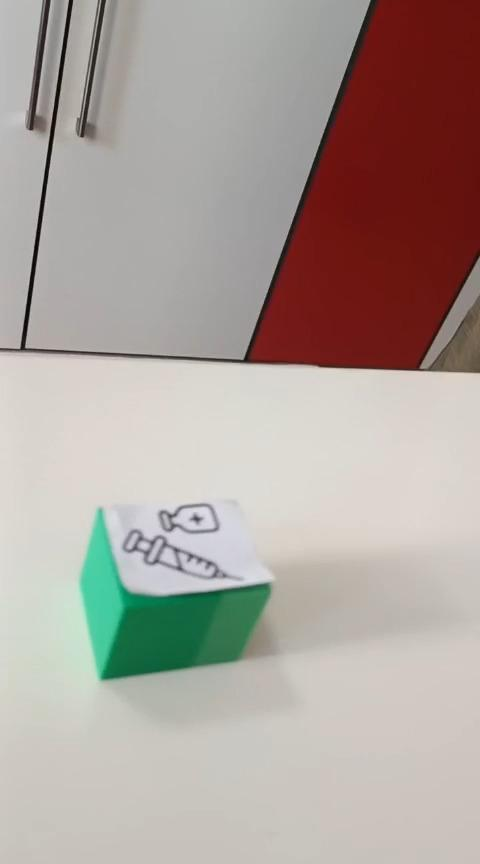antiseptic cream: (78, 497, 275, 680)
